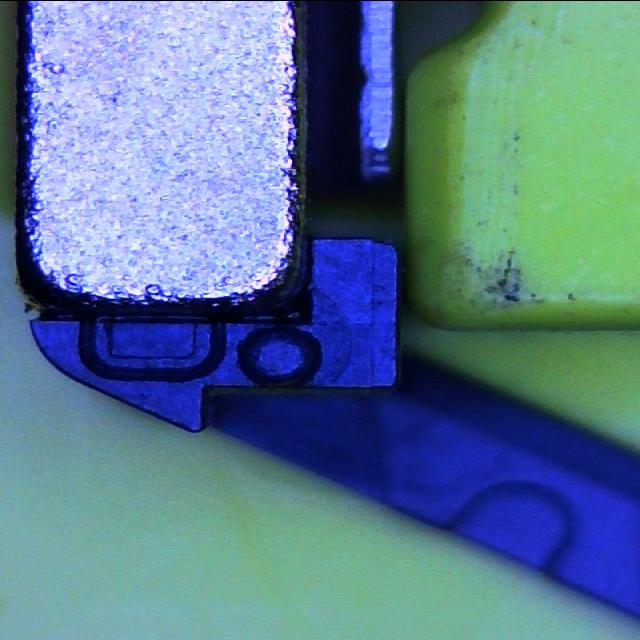lacking: (76, 310, 226, 382)
